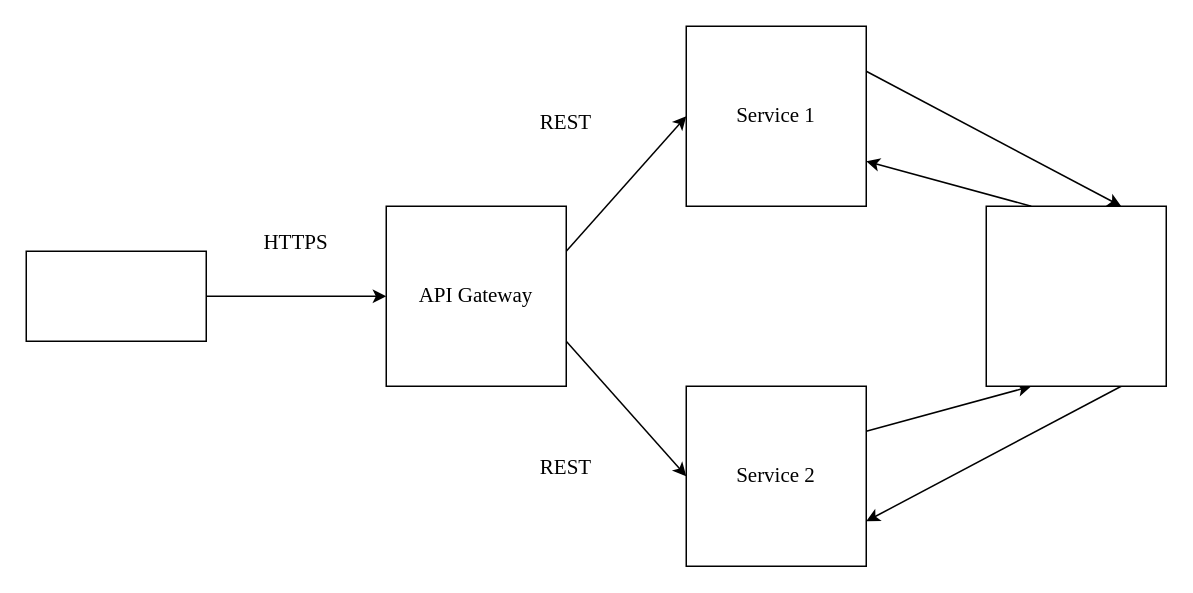
Some shapes in this 1193 by 593 pixel diagram are drawn without their labels. The centre of each missing label's shape, as x and y in pixels:
"Client" belongs at pixel 115 295.
"Message Broker" belongs at pixel 1075 295.
